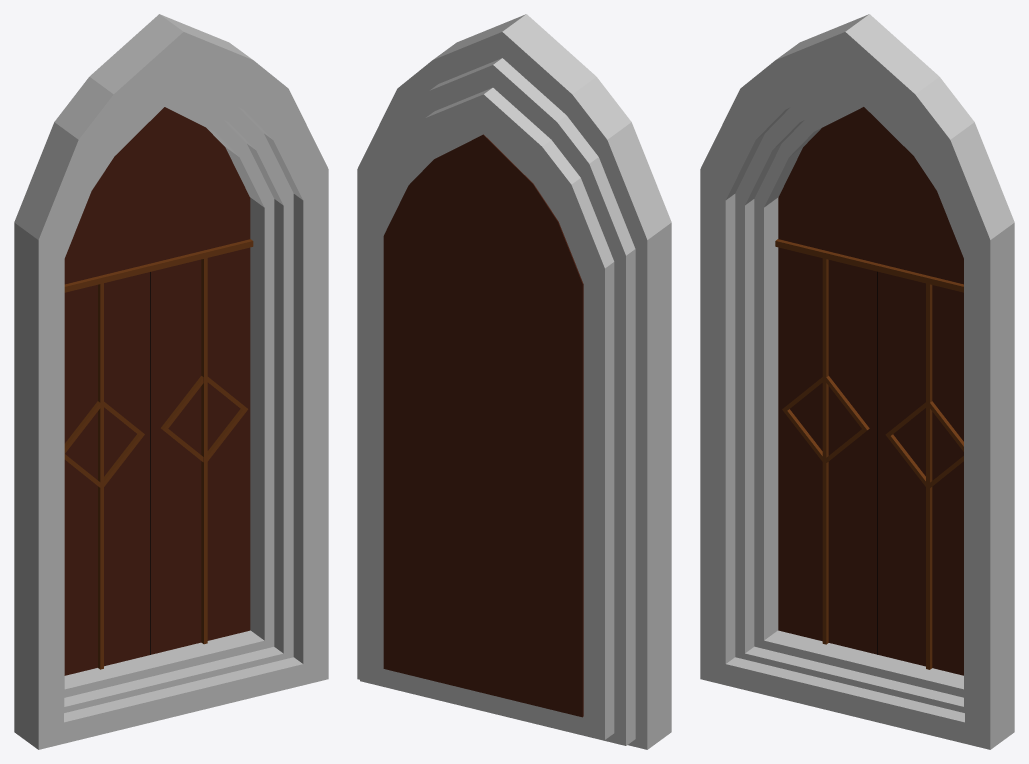
File: front_tower_door.glb
The picture shows the model from 3 angles, left to right: view 1: azimuth 30°, elevation 25°; view 2: azimuth 150°, elevation 25°; view 3: azimuth 330°, elevation 25°; orthographic projection.
Visible parts, largest first — view 1: frame.003; view 2: frame.003; view 3: frame.003.
Boxes of the visible parts, <box> form: frame.003: <box>14,14,328,749</box>; frame.003: <box>357,14,671,749</box>; frame.003: <box>700,14,1014,749</box>.
Bounding box in the file's own units: 3.61 × 8.11 × 0.9401.
